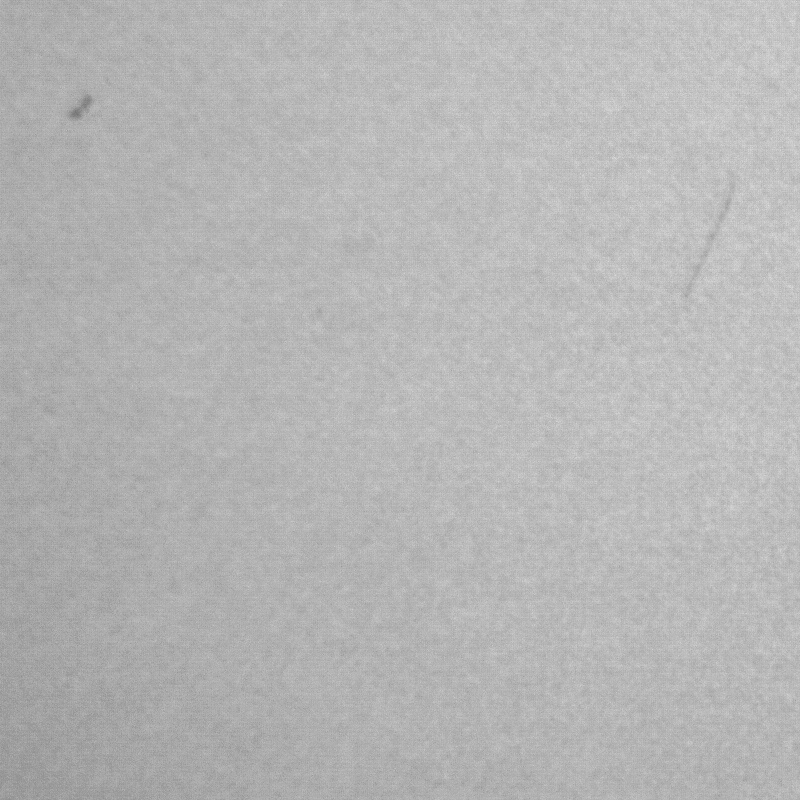defect: (683, 194, 726, 298), (64, 89, 92, 127)
